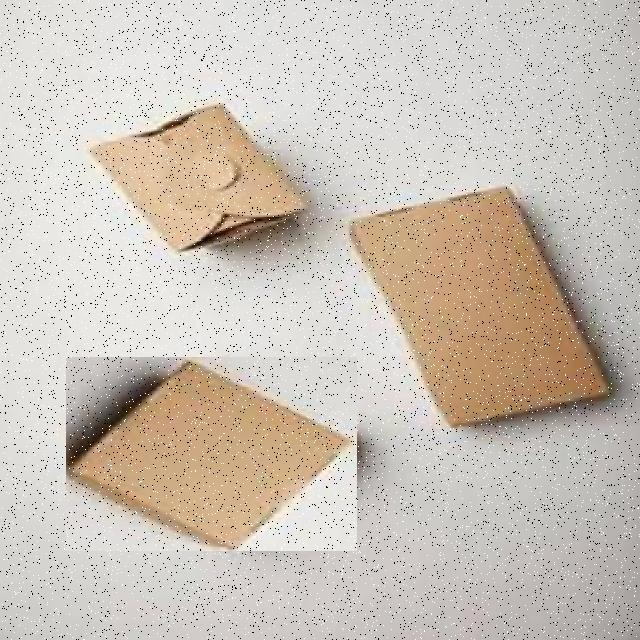normal: (349, 183, 611, 432), (66, 357, 357, 551)
